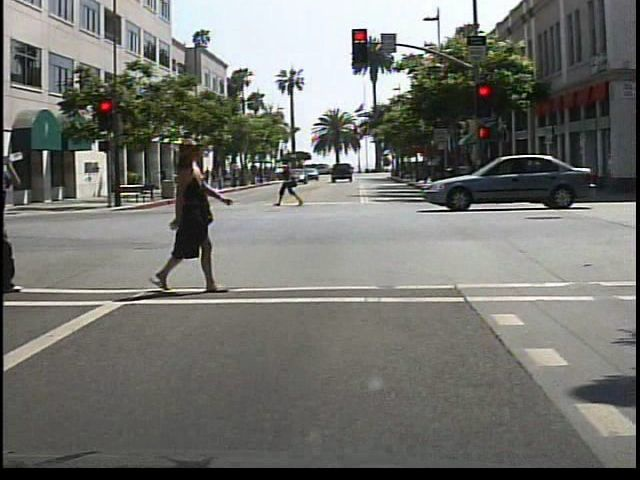person: (160, 135, 244, 294), (1, 144, 27, 298), (278, 159, 307, 209), (173, 163, 187, 189)
